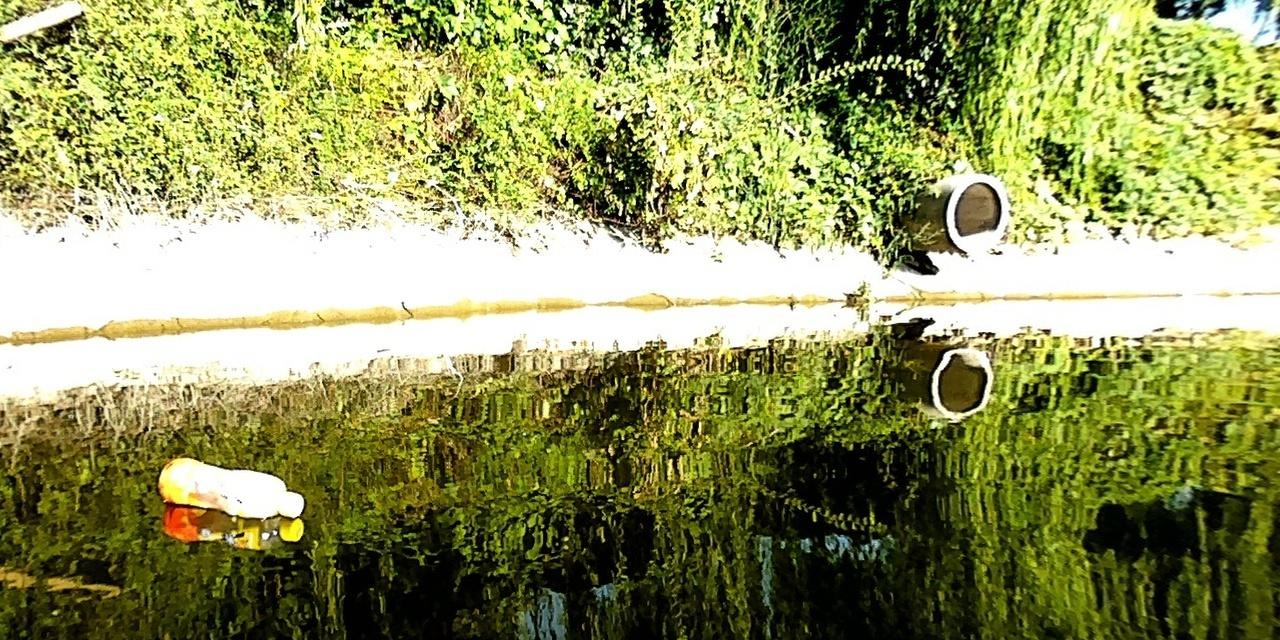bottle: (158, 455, 302, 519)
